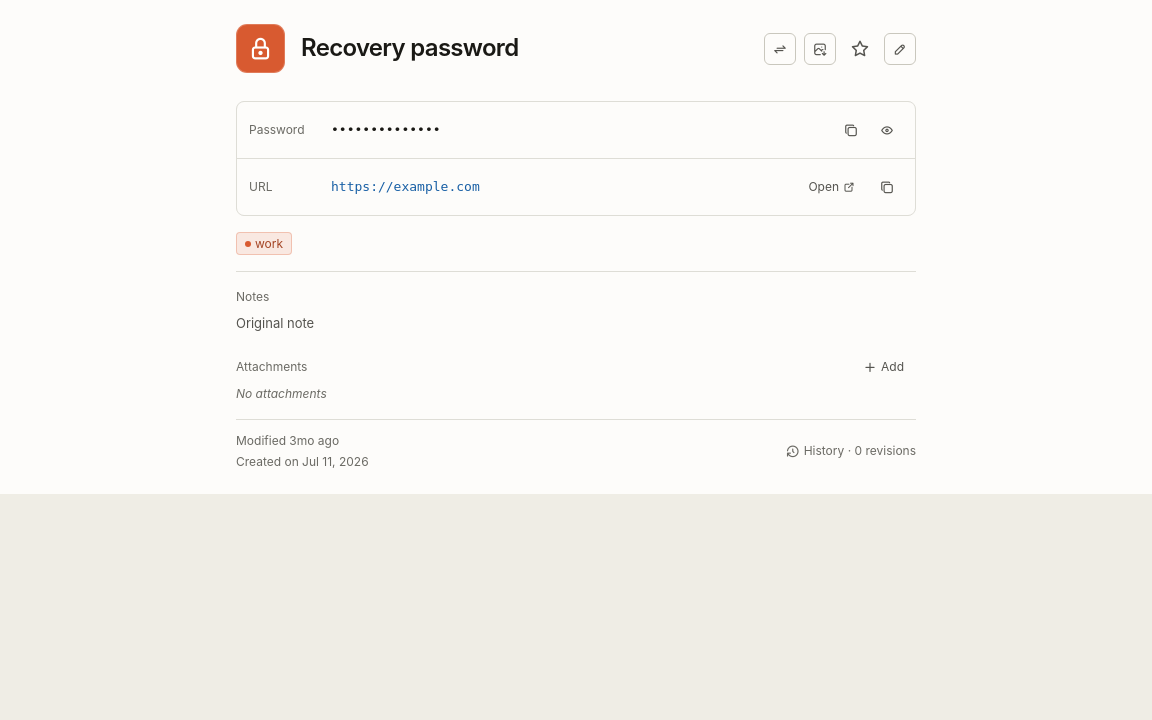
Scenario: edit actions › enables Save only after the form changes
Step 1. Click the button named "Edit entry" → (900, 48), box [884,32,916,64]
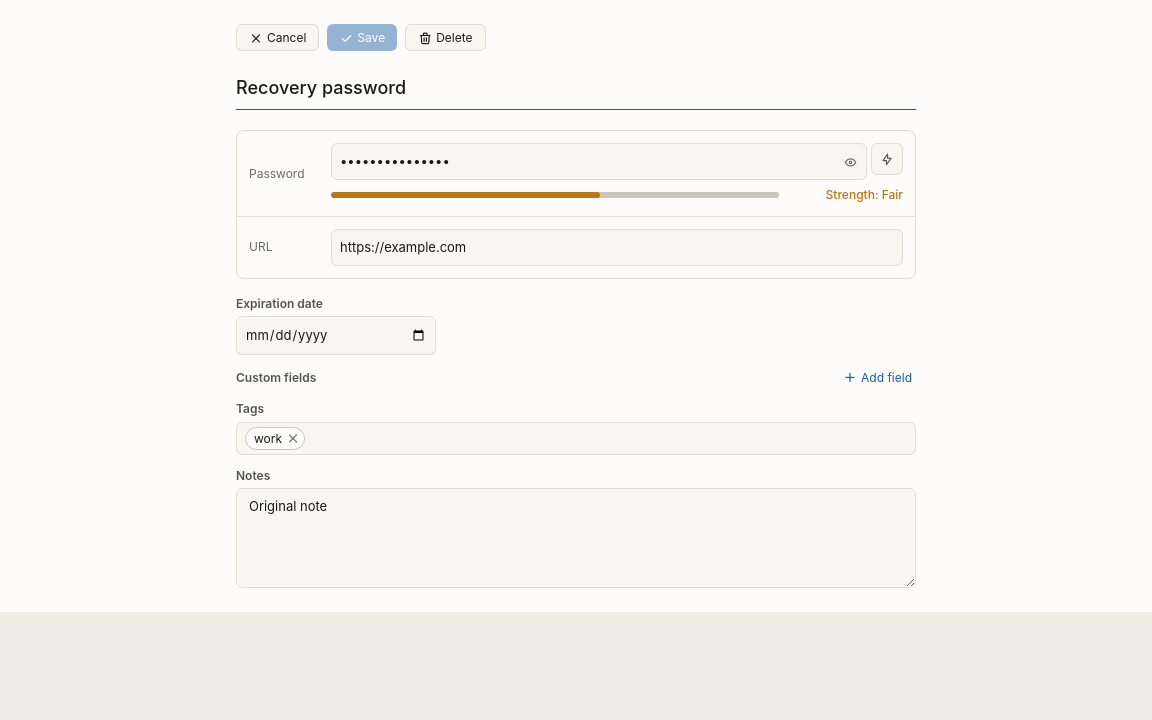
Now the button "Save" is disabled, box [327,24,397,51]
Step 2. Press s
Step 3. Replace the text in the 1st field with placeholder "Title" with "Updated title" → (576, 89), box [236,67,916,110]
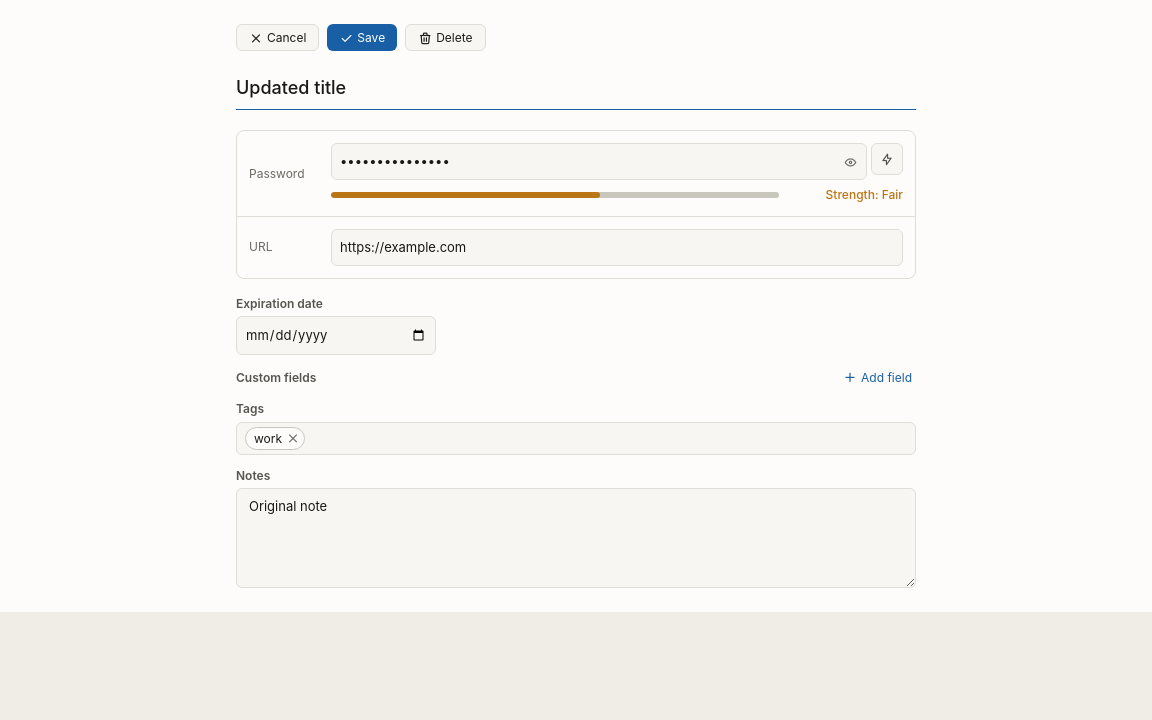
Now the button "Save" is enabled, box [327,24,397,51]
